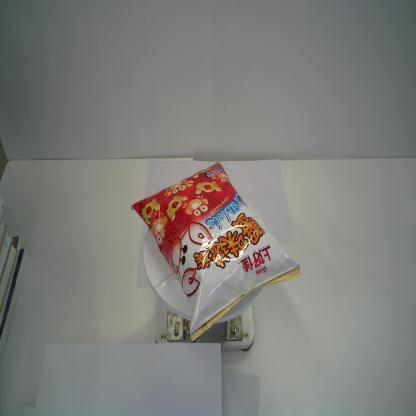Puffed Food: (129, 159, 301, 344)
